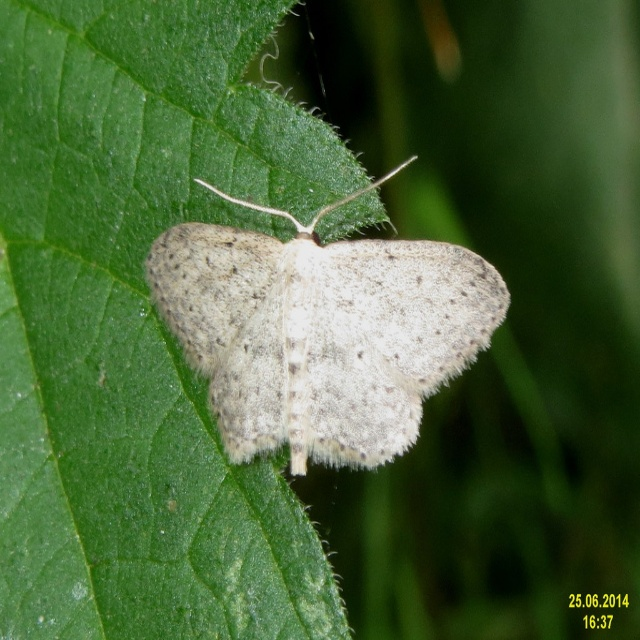Butterfly: (144, 131, 520, 495)
